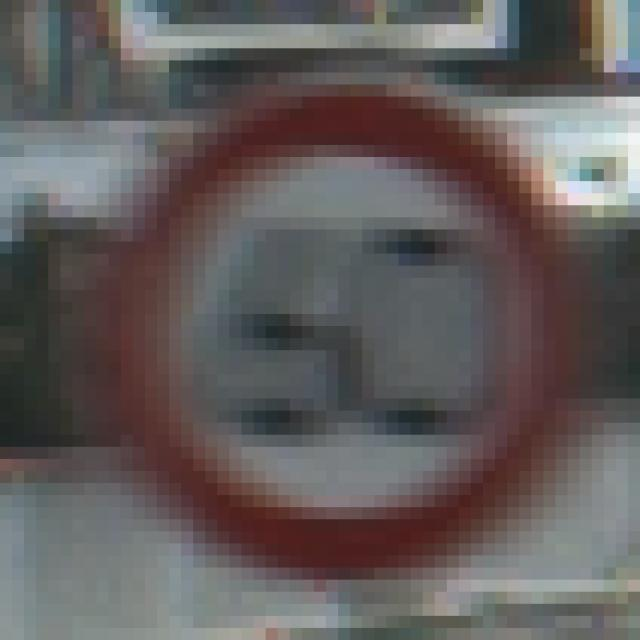Ograniczenie predkosci do 60: (40, 24, 640, 587)
